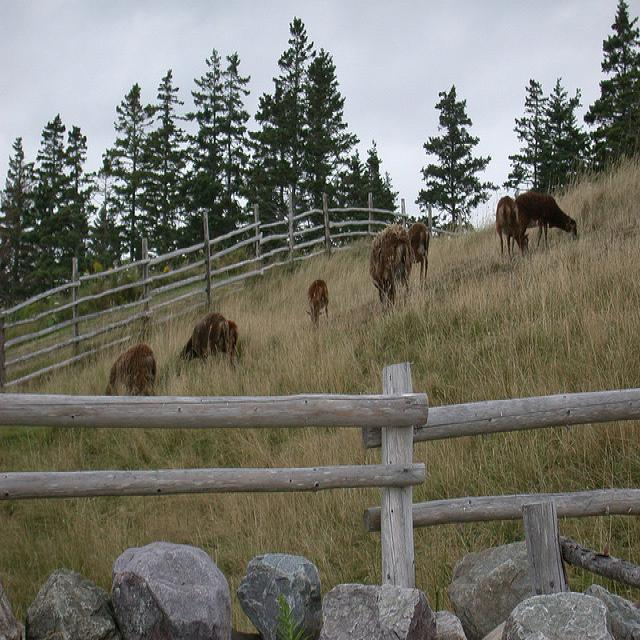cow: (361, 217, 430, 316), (173, 308, 240, 384), (516, 189, 577, 251), (103, 343, 156, 393), (494, 193, 530, 263), (304, 276, 328, 328)
